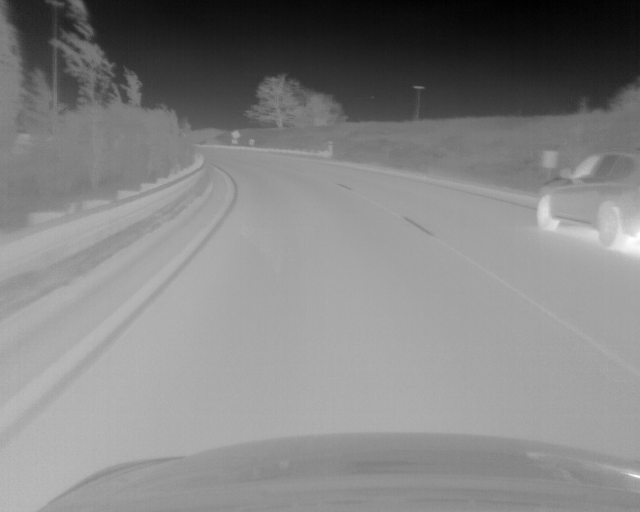car: (532, 149, 640, 248)
